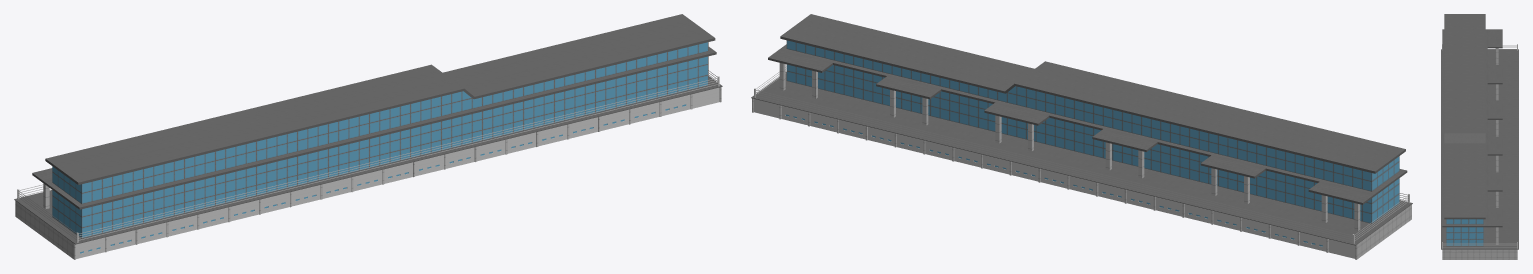
The model's file is BuildingL_1.fbx.
3 renders of one model, left to right at view 1: azimuth 30°, elevation 25°; view 2: azimuth 150°, elevation 25°; view 3: azimuth 270°, elevation 25°, orthographic. The views are drawn at different scales.
Visible parts, largest first — view 1: BuildingL_1; view 2: BuildingL_1; view 3: BuildingL_1.
Boxes of the visible parts, bbox=[...] form: BuildingL_1: bbox=[14, 14, 722, 259]; BuildingL_1: bbox=[751, 14, 1412, 259]; BuildingL_1: bbox=[1441, 14, 1518, 259].
Bounding box in the file's own units: 126 × 13.96 × 20.7.
Materials: 1 (1 with a texture image).
